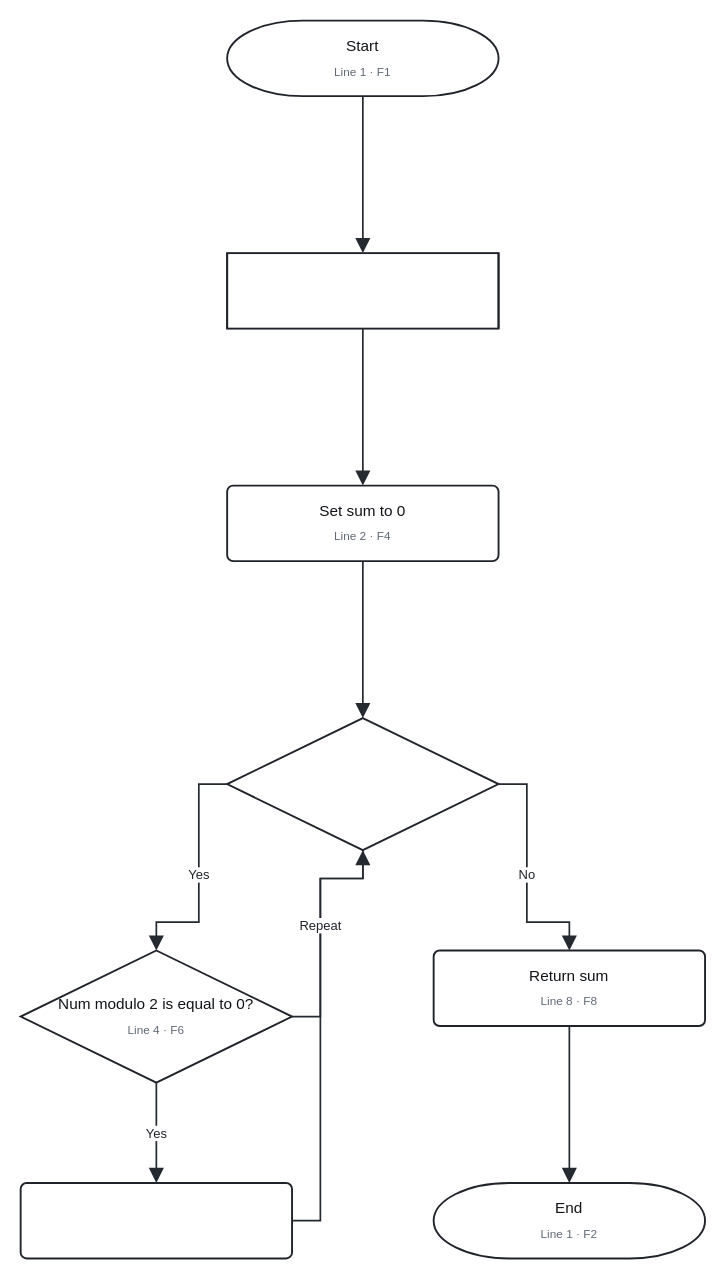
Some shapes in this 727 by 1280 pixel diagram are drawn without their labels. The centre of each missing label's shape, as x and y in pixels:
For each num in __reserved_keyword__List Line 3 · F5: [362,783]
Run function sumEven with __reserved_keyword__List Line 1 · F3: [362,290]
Set sum to sum plus num Line 5 · F7: [155,1220]
